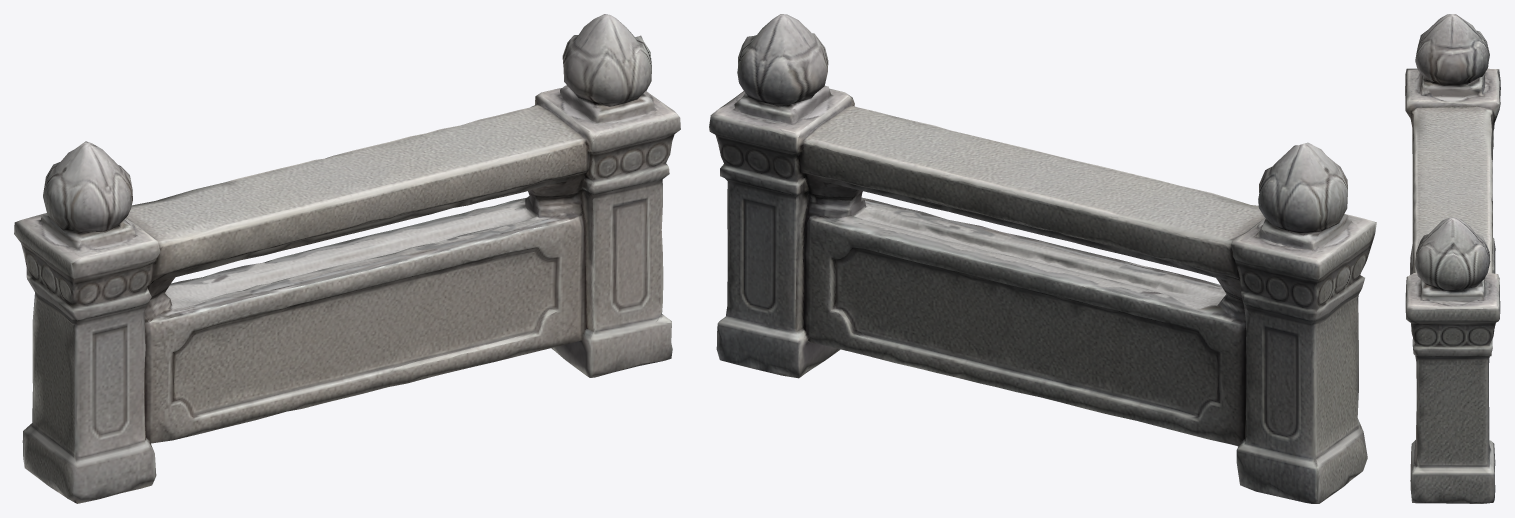
File: 경복궁_돌울타리.glb
3 views of the same model, side by side, from view 1: azimuth 30°, elevation 25°; view 2: azimuth 150°, elevation 25°; view 3: azimuth 270°, elevation 25° (orthographic). The views are drawn at different scales.
Visible parts, largest first — view 1: texture_mapping; view 2: texture_mapping; view 3: texture_mapping.
Boxes of the visible parts, left/top/right/bottom form: texture_mapping: left=14, top=14, right=680, bottom=503; texture_mapping: left=709, top=14, right=1376, bottom=503; texture_mapping: left=1405, top=14, right=1500, bottom=503.
Size of the model in its own units: 1 by 0.529 by 0.1689.
1 material, 1 textured.
